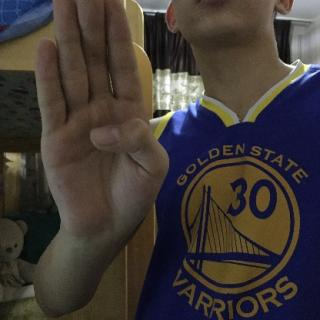KAAF: (22, 0, 189, 251)
